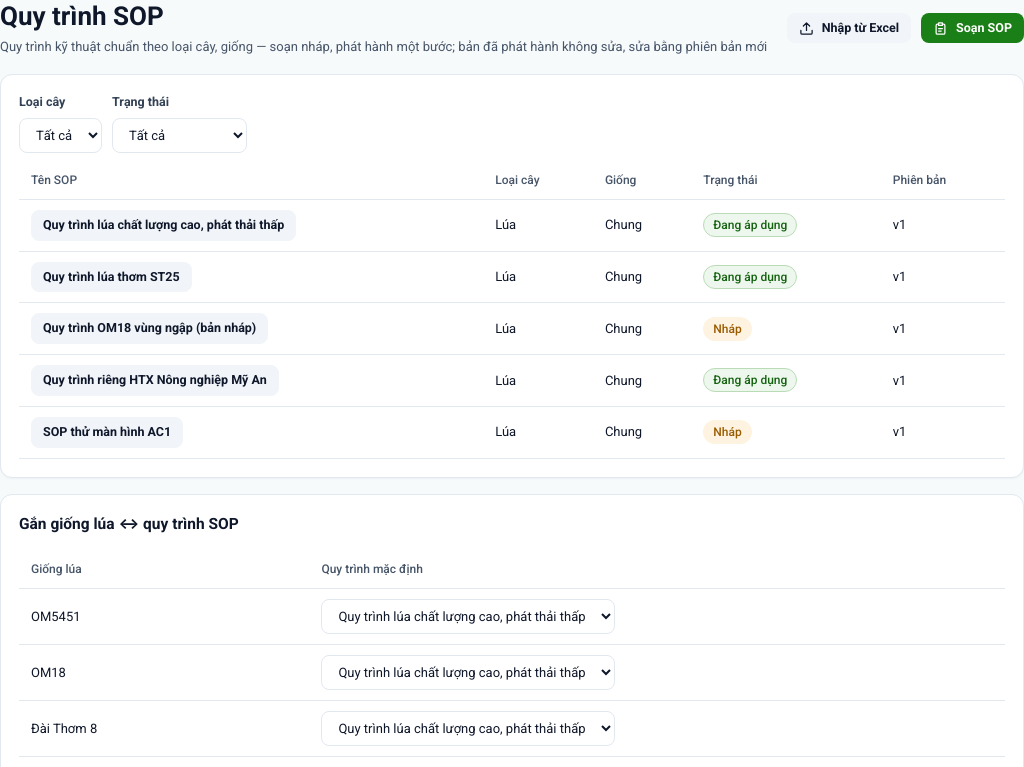
it: Màn Quy trình SOP (AH-8) › AC3: vật tư chọn từ danh mục tự điền đơn vị; liều nhập kiểu Việt được chuẩn hóa
The image size is (1024, 767).
Click the button "Soạn SOP" at (973,28), box [921,13,1023,43]
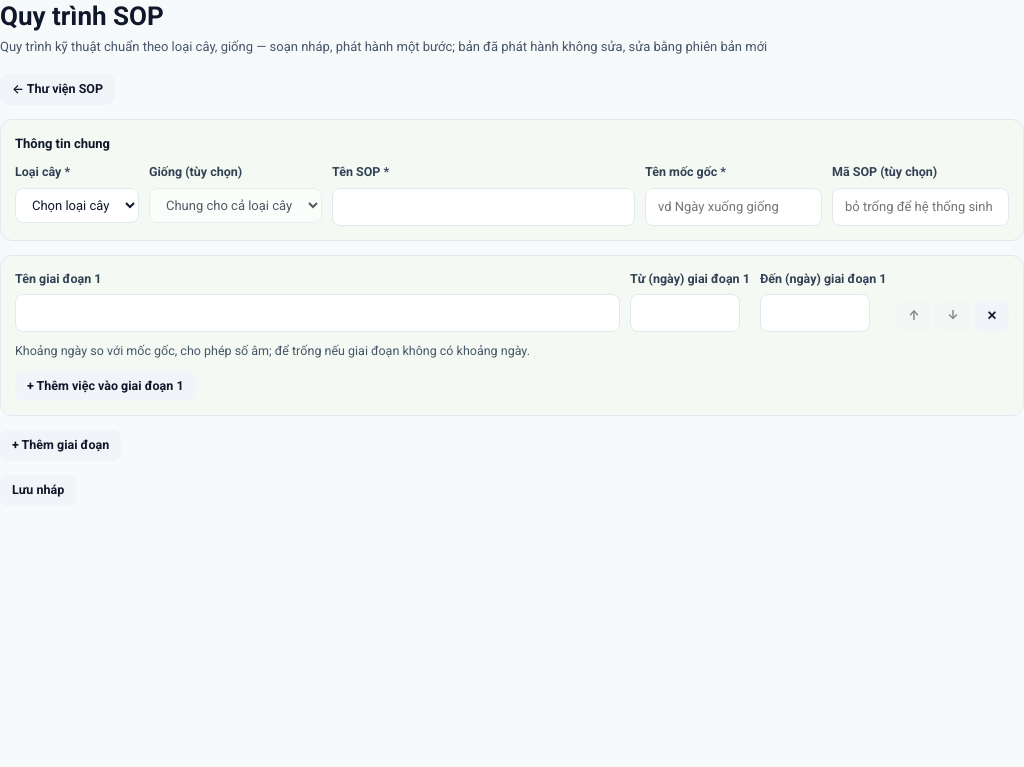
Result: the element "Thông tin chung" is shown at [0,119,1023,241]
Click the button "+ Thêm việc vào giai đoạn 1" at (105,386), box [15,370,196,401]
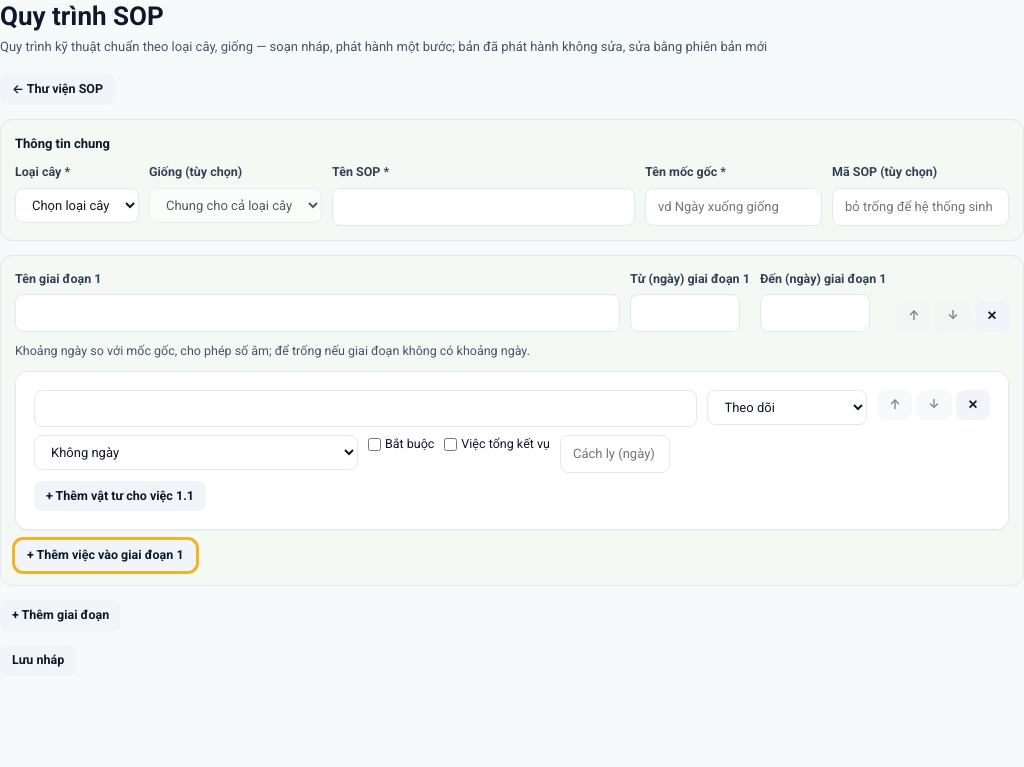
Click the button "+ Thêm vật tư cho việc 1.1" at (120,496), box [34,480,206,511]
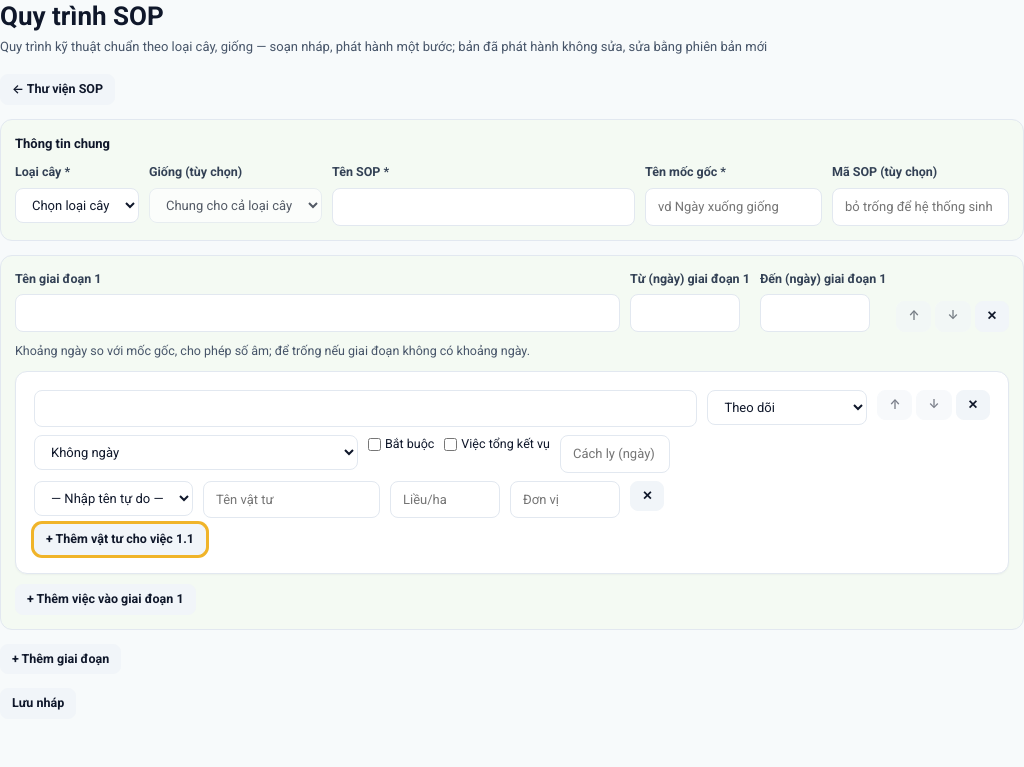
Select "Phân urê" in the dropdown named "Vật tư 1 của việc 1.1" at (114,498), box [34,480,193,516]
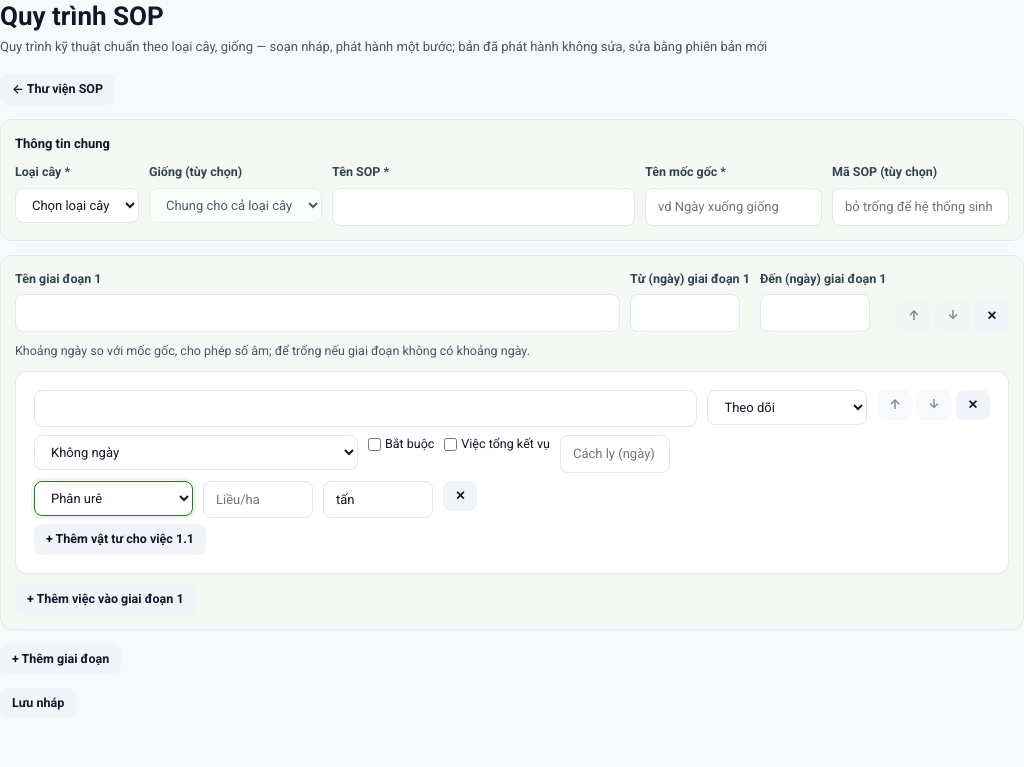
Result: the field named "Đơn vị vật tư 1 của việc 1.1" holds "tấn" at [323,480,433,518]
Type "0,5" into the field named "Liều/ha vật tư 1 của việc 1.1" at (258,499), box [203,480,313,518]
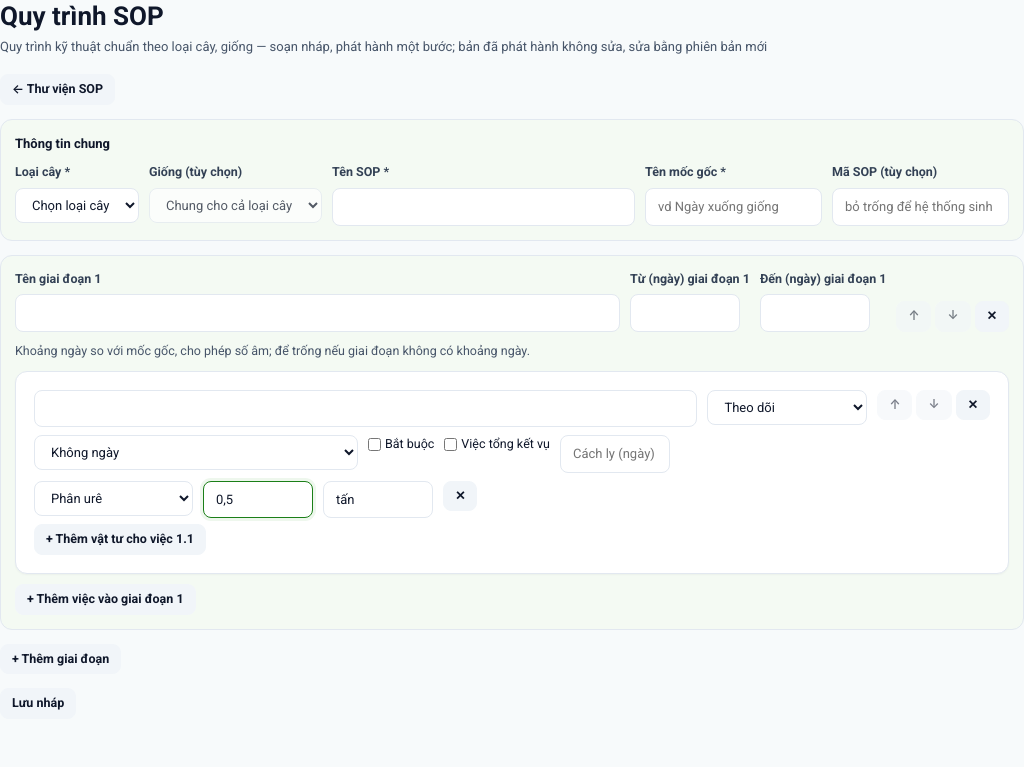
Press Tab
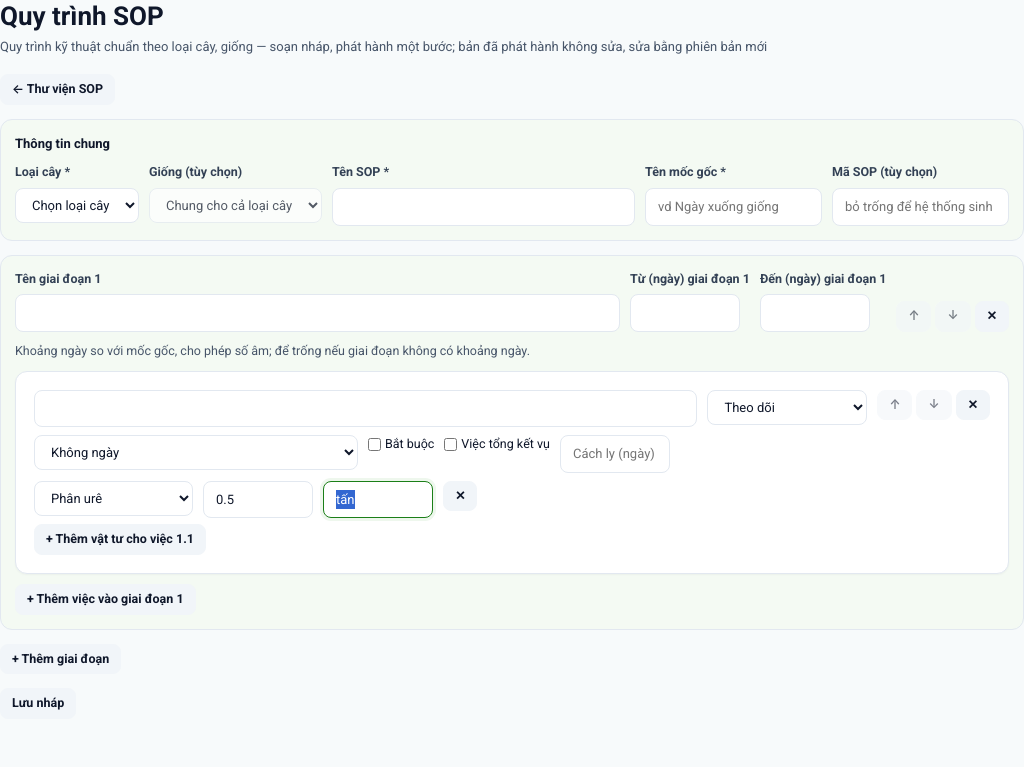
Result: the field named "Liều/ha vật tư 1 của việc 1.1" holds "0.5" at [203,480,313,518]
